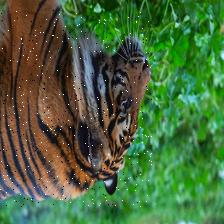tiger: (0, 9, 153, 207)
